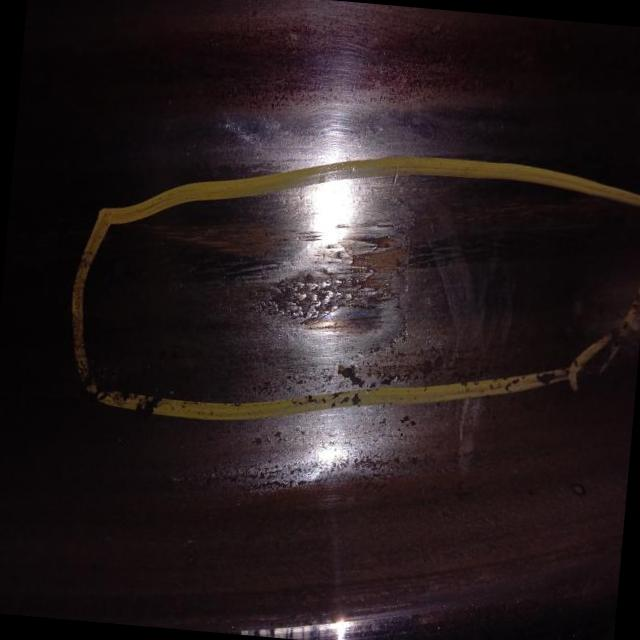Rollerpile: (261, 215, 438, 344)
